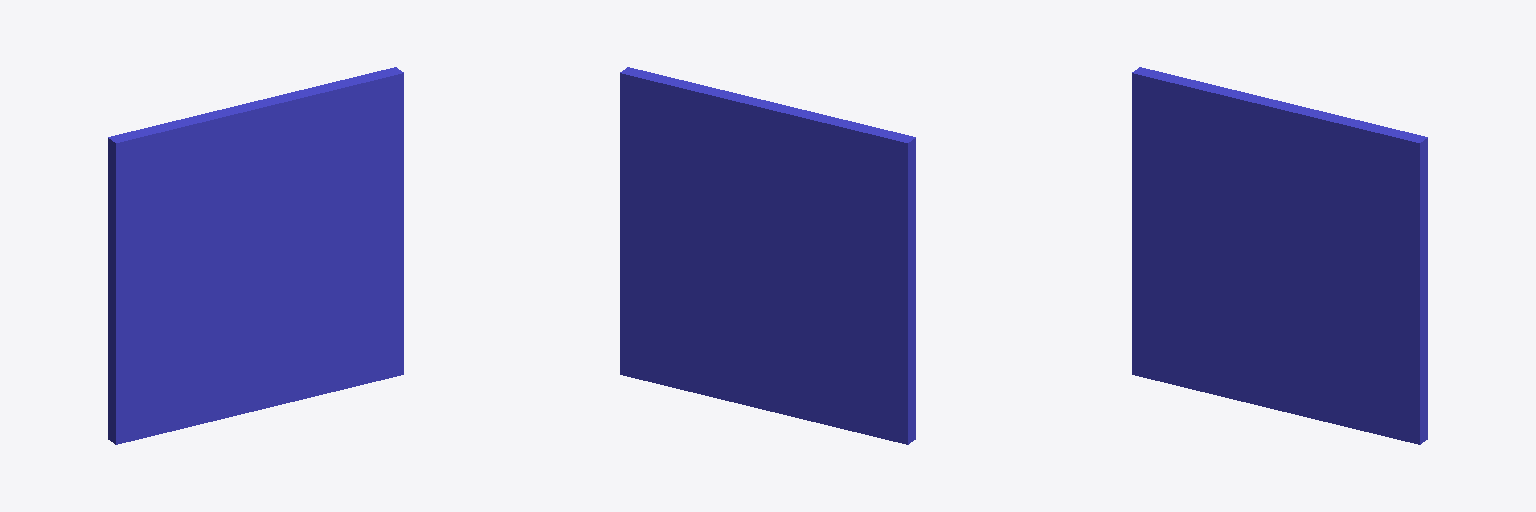
The model's file is start_platform001.007.obj.
3 views of the same model, side by side, from view 1: azimuth 30°, elevation 25°; view 2: azimuth 150°, elevation 25°; view 3: azimuth 330°, elevation 25° (orthographic).
Visible parts, largest first — view 1: start_platform001.007; view 2: start_platform001.007; view 3: start_platform001.007.
Part boxes in pixels (x1,y1,x2,y2): start_platform001.007: (108,67,403,444); start_platform001.007: (620,67,915,444); start_platform001.007: (1132,67,1427,444).
Size of the model in its own units: 2 by 2 by 0.1.